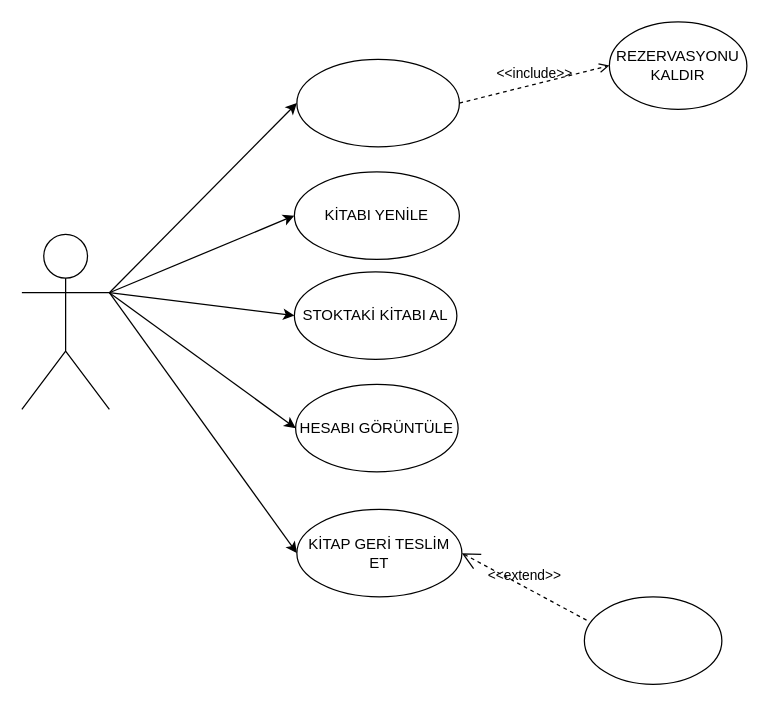
Some shapes in this 769 by 706 pixel diagram are drawn without their labels. Each missing label, with the box of its shape:
CEZA ÖDE: (583, 596, 722, 684)
KİTABI KONTROL ET: (296, 58, 459, 147)
KULLANICI: (21, 233, 109, 409)
